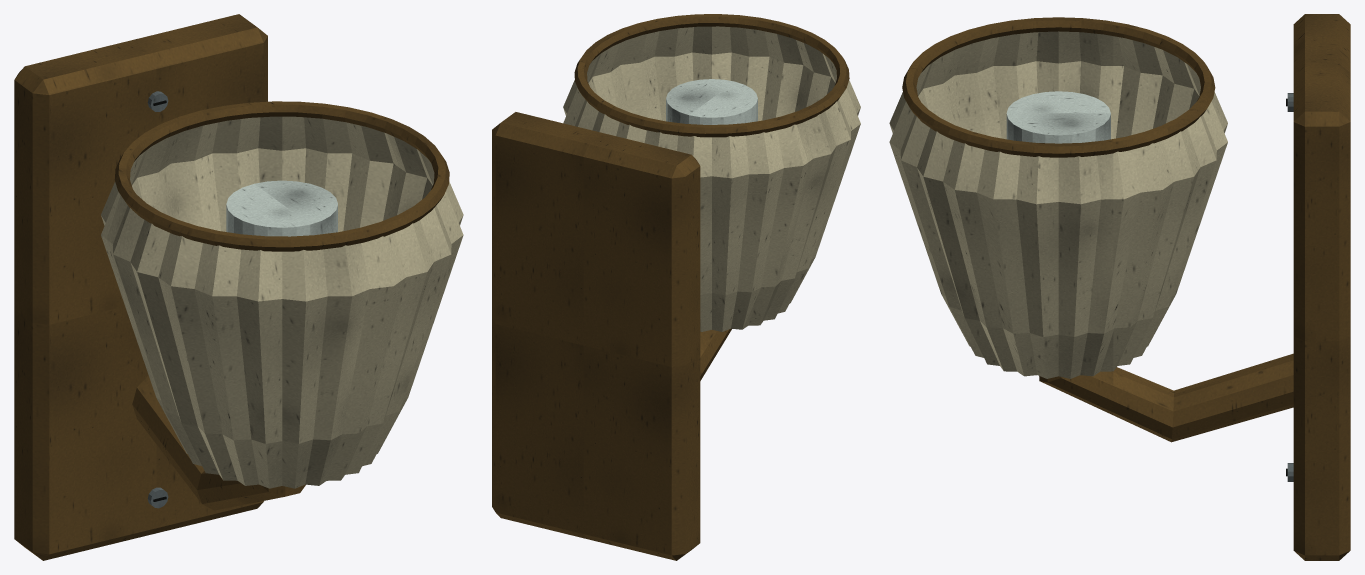
The model's file is ribbed_glass_wall_sconce.glb.
3 views of the same model, side by side, from view 1: azimuth 30°, elevation 25°; view 2: azimuth 150°, elevation 25°; view 3: azimuth 270°, elevation 25° (orthographic). The views are drawn at different scales.
Visible parts, largest first — view 1: ribbed_glass_wall_sconce; view 2: ribbed_glass_wall_sconce; view 3: ribbed_glass_wall_sconce.
Boxes of the visible parts, box(x1,y1,x2,y2) form: ribbed_glass_wall_sconce: box(14, 14, 463, 560); ribbed_glass_wall_sconce: box(492, 14, 860, 560); ribbed_glass_wall_sconce: box(889, 14, 1350, 560).
Bounding box in the file's own units: 0.1428 × 0.209 × 0.1944.
Materials: 5 (5 with a texture image).
